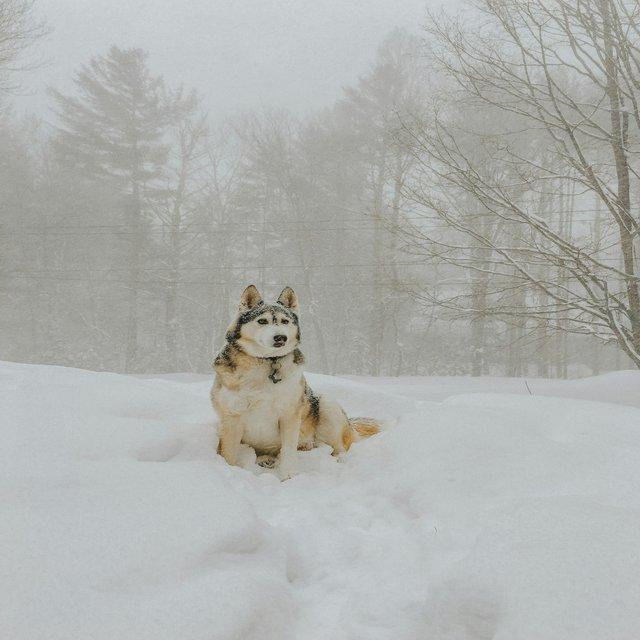husky: (209, 282, 381, 480)
